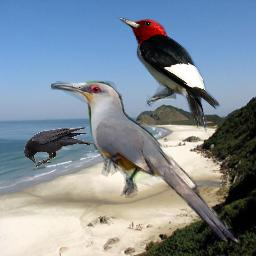Crow: (24, 127, 95, 168)
Cuckoo: (51, 80, 240, 247)
Woodpecker: (116, 17, 222, 133)
